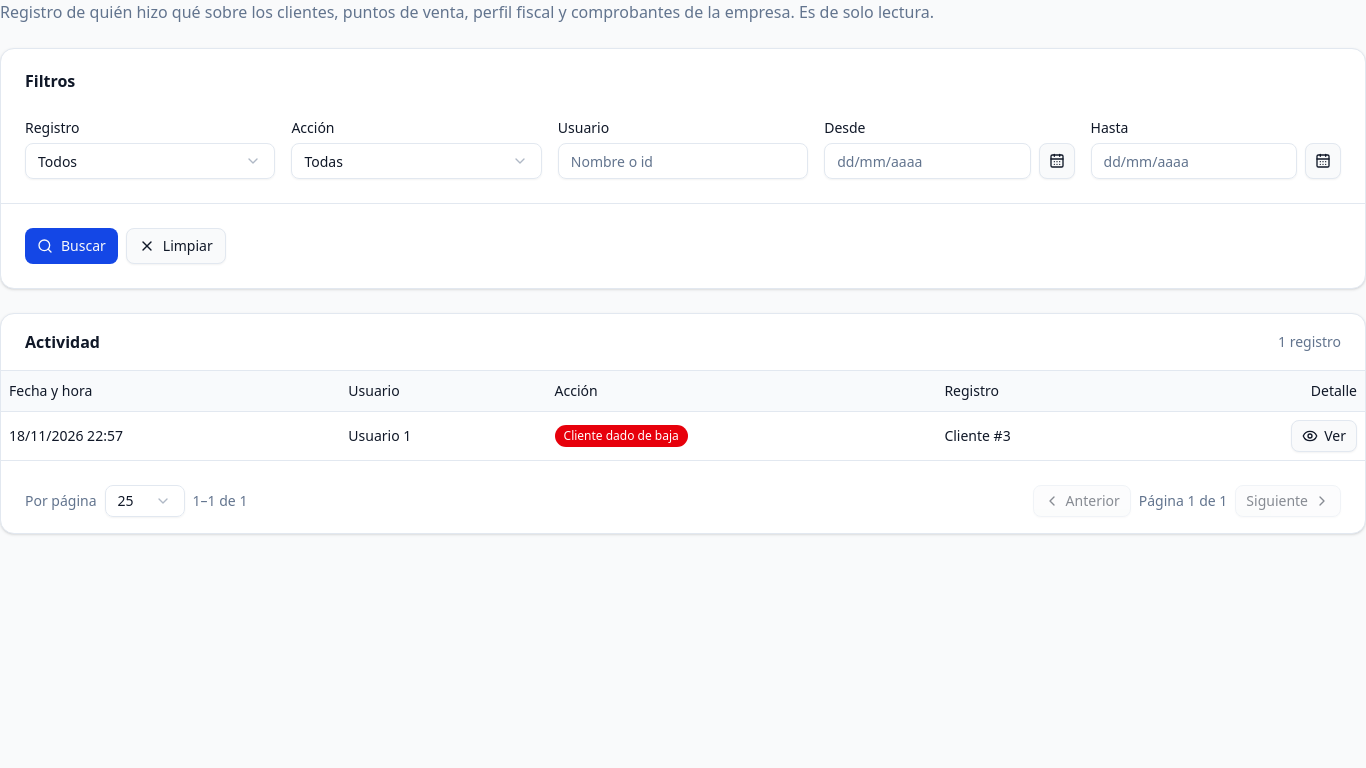
Test: AuditLog (auditoría) › una baja sin datos adicionales lo dice en lugar de mostrar una tabla vacía
Click the button "Ver".
click(1324, 436)  # box [1291,420,1357,452]
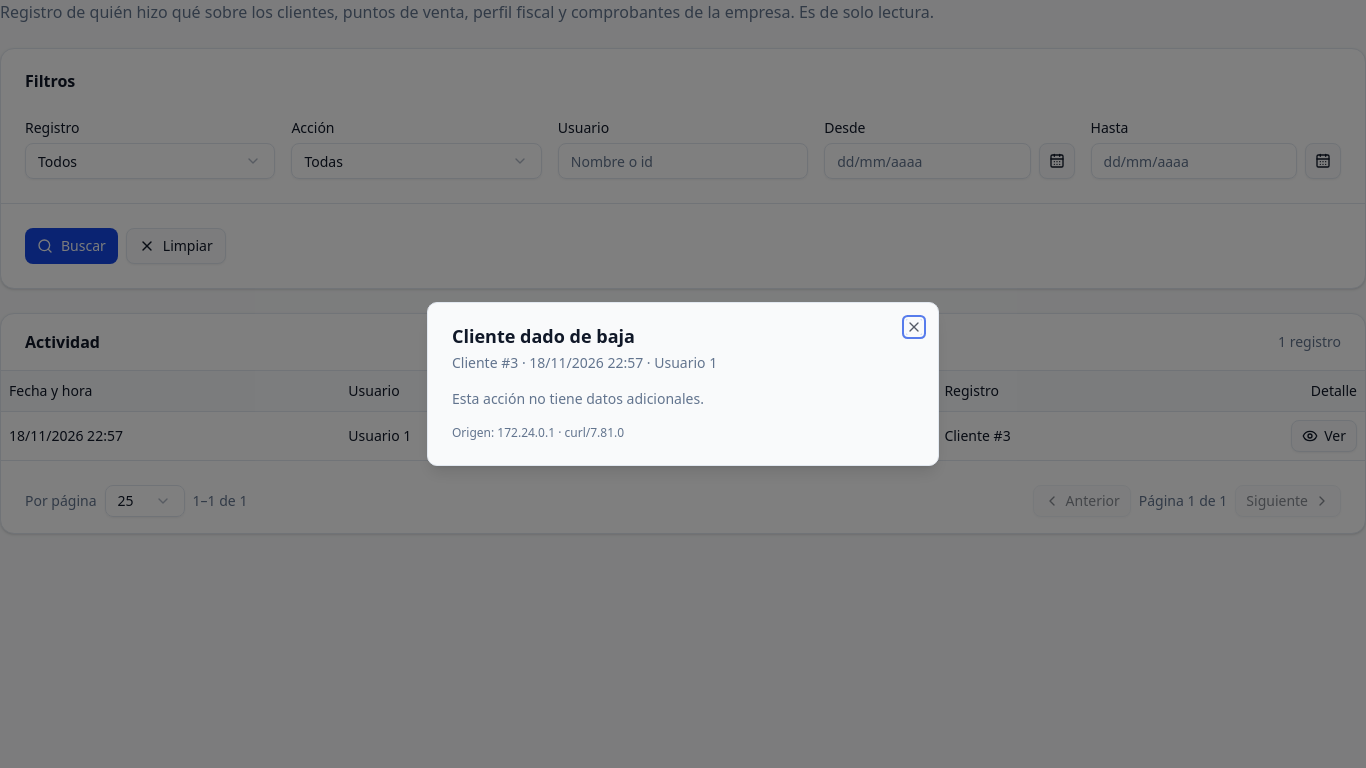
Result: the text "Esta acción no tiene datos adicionales." is shown at [452,389,704,408]
